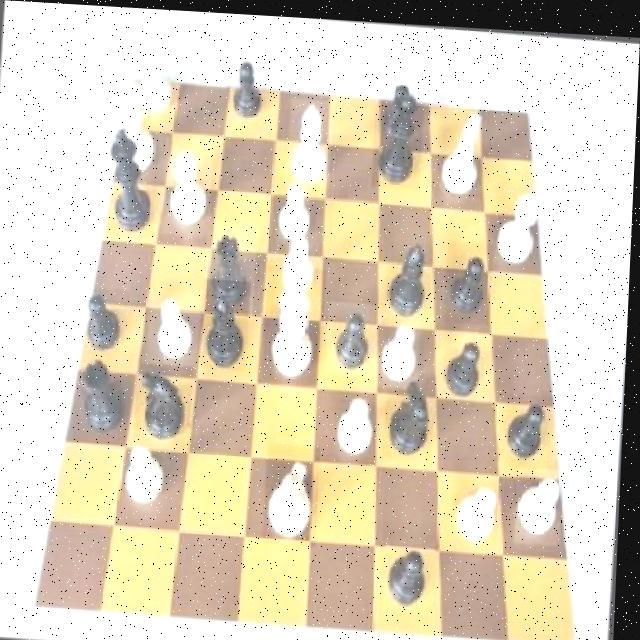bishop: (384, 230, 440, 317), (203, 275, 254, 367)
black-bishop: (105, 118, 162, 236)
black-king: (137, 361, 197, 448), (386, 366, 440, 456)
black-knight: (446, 235, 496, 320), (329, 297, 384, 373), (441, 324, 494, 399), (501, 386, 556, 457), (388, 535, 440, 610), (82, 286, 132, 359), (226, 51, 270, 120), (375, 67, 418, 136)
black-pawn: (373, 81, 425, 186)
black-queen: (75, 347, 137, 446), (205, 216, 259, 314)
black-rook: (126, 24, 182, 122), (286, 94, 334, 183)
white-bishop: (264, 262, 328, 382)
white-king: (267, 441, 327, 543), (435, 92, 494, 193)
white-knight: (117, 426, 178, 518), (453, 468, 512, 546), (330, 379, 383, 464), (149, 286, 203, 366), (378, 301, 425, 384), (519, 461, 568, 540), (277, 226, 328, 298), (272, 170, 319, 244)
white-pawn: (108, 65, 162, 181)
white-queen: (162, 136, 216, 235), (489, 178, 549, 264)
